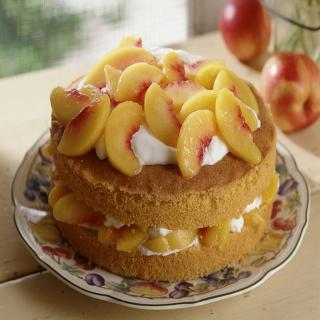Apple: (258, 50, 320, 135), (218, 0, 271, 63)
Cake: (50, 78, 277, 281)
Peach: (49, 34, 262, 178), (260, 50, 320, 134), (218, 0, 271, 62), (52, 192, 104, 224), (143, 229, 200, 252), (201, 221, 230, 248), (116, 225, 145, 251), (260, 170, 278, 206), (47, 179, 68, 207), (97, 222, 118, 243), (242, 209, 266, 227)
